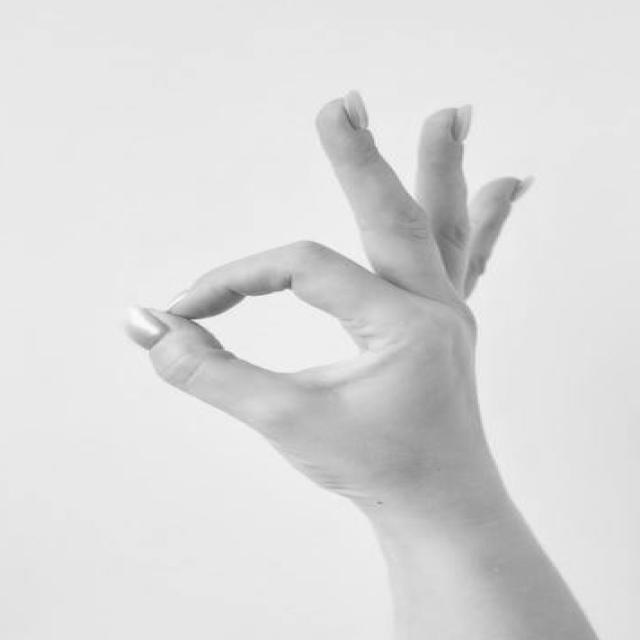perfect: (114, 77, 549, 510)
